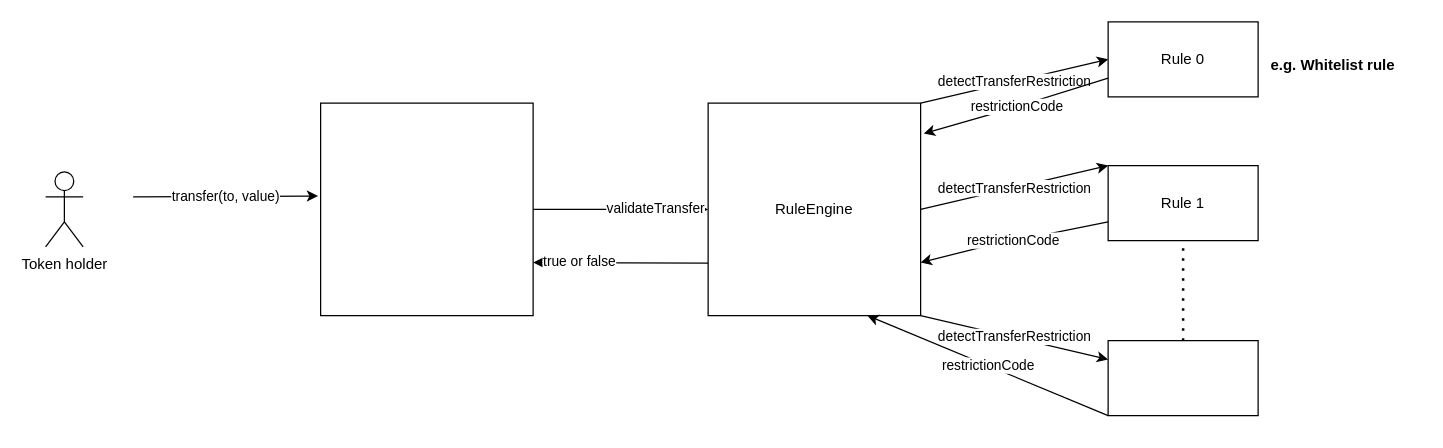
Image size: 1443x448. Some labels were removed from this diagram. The shapes that lost their labels are listed below. From the top down, each one's box as (x1, y1, x2, y2) in pixels, then its label:
(319, 102, 533, 316): CMTAT
(1107, 339, 1258, 416): Rule n
